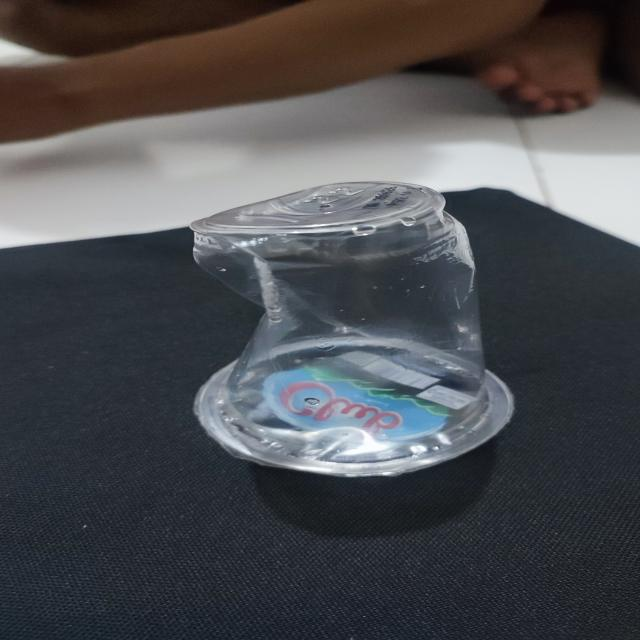air-gelas-rusak: (157, 167, 544, 481)
